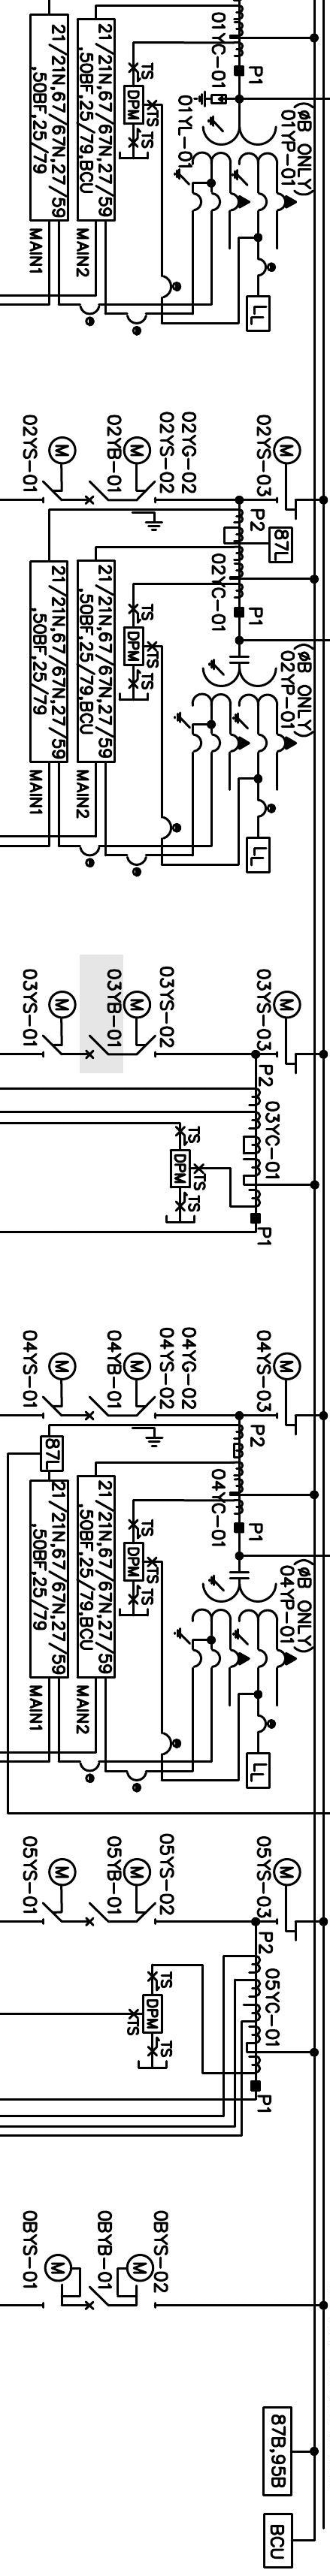115_1way_ds_w_motor: (123, 991, 164, 1086), (273, 435, 302, 521), (273, 989, 302, 1074), (273, 1350, 302, 1436), (273, 1856, 302, 1942), (41, 435, 77, 504), (41, 991, 77, 1058), (41, 1352, 77, 1419), (41, 1858, 77, 1925), (41, 2252, 82, 2310), (123, 1858, 158, 1925), (117, 2252, 156, 2308)
115_3ways_ds_w_motor: (121, 435, 164, 532), (123, 1352, 164, 1447)
115_breaker: (85, 2285, 110, 2310), (84, 480, 108, 504), (85, 1035, 110, 1060), (85, 1396, 110, 1421), (85, 1902, 110, 1927)
115_cvt_1p: (174, 1571, 297, 1671), (174, 655, 297, 754)
115_la: (192, 90, 227, 108)
115_vt_1p: (174, 115, 297, 212)
BCU: (263, 2512, 294, 2569)
DPM: (141, 1994, 164, 2034), (123, 84, 144, 125), (123, 626, 144, 667), (169, 1148, 190, 1189), (123, 1541, 144, 1582)
LL: (245, 294, 271, 332), (245, 836, 271, 874), (245, 1751, 271, 1789)
